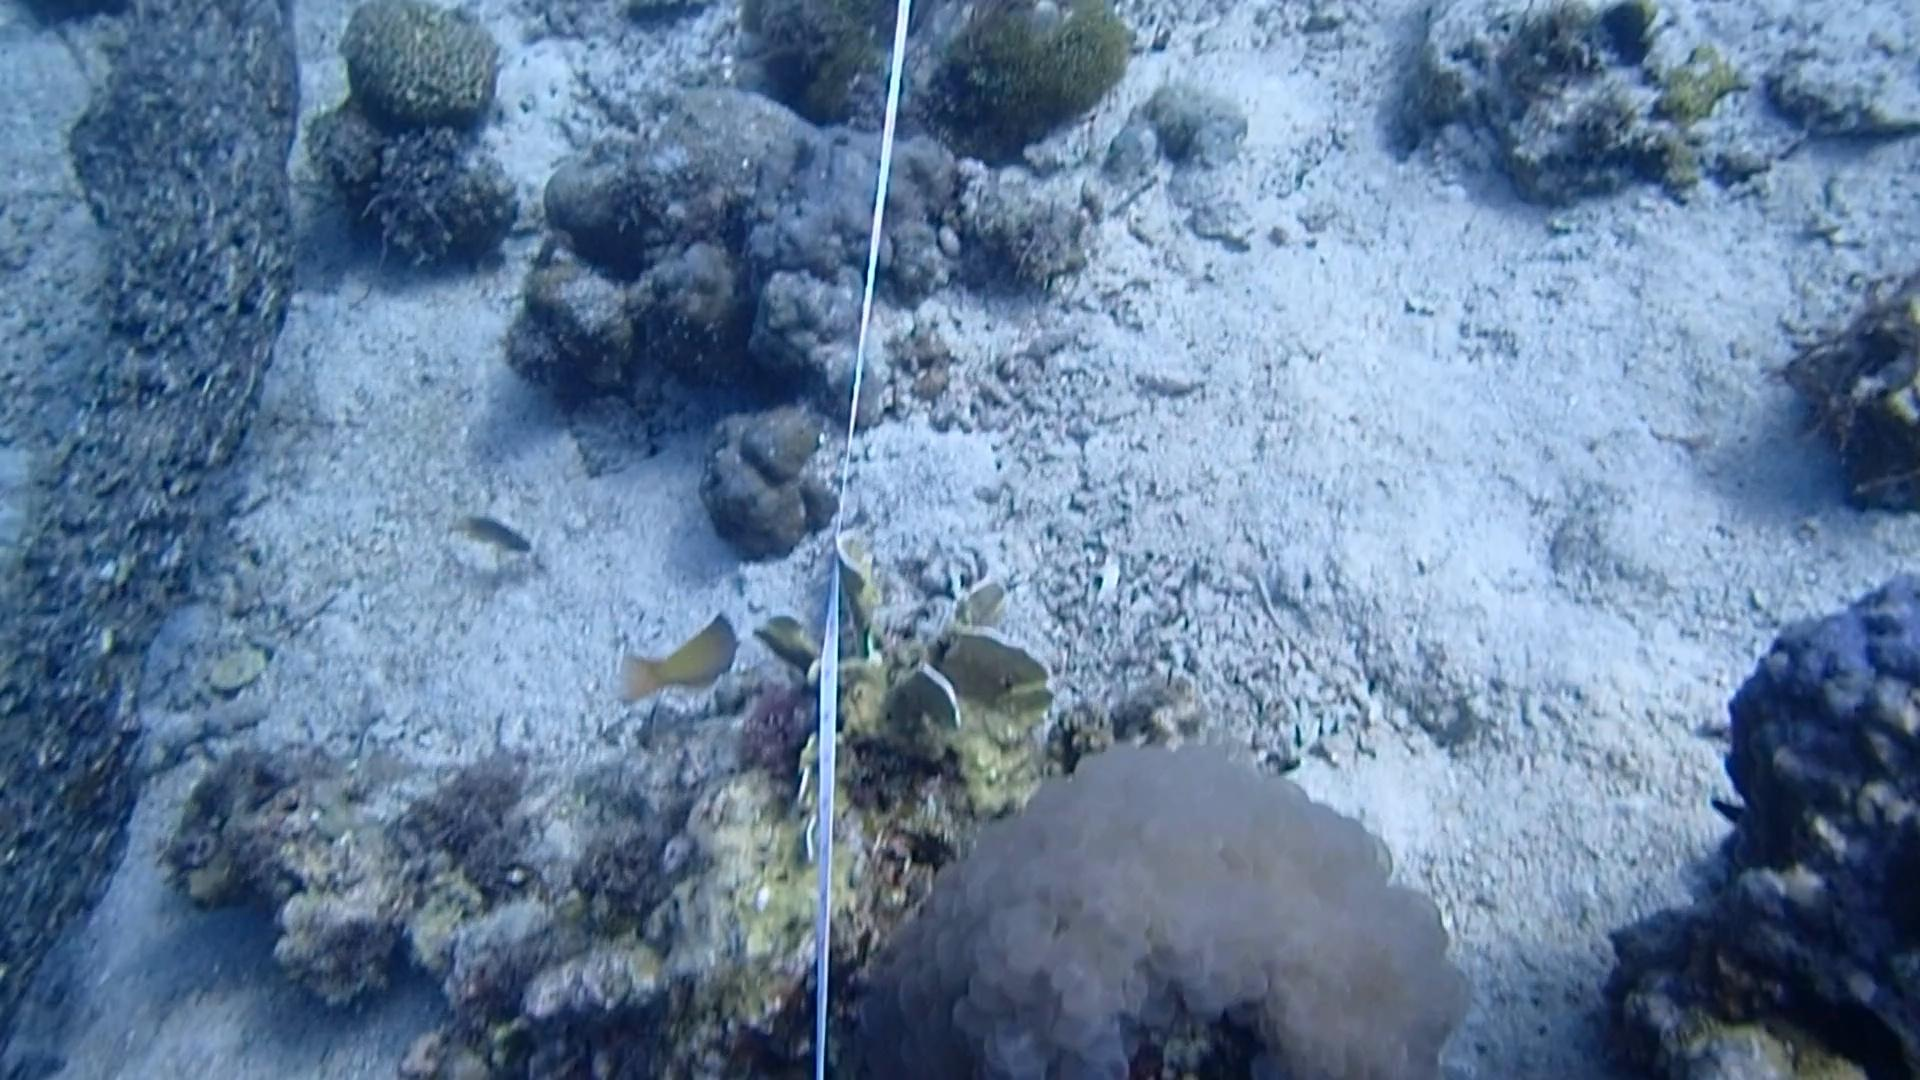Light Fish: (446, 500, 539, 562)
Yellow-Blue Fish: (595, 603, 753, 711)
